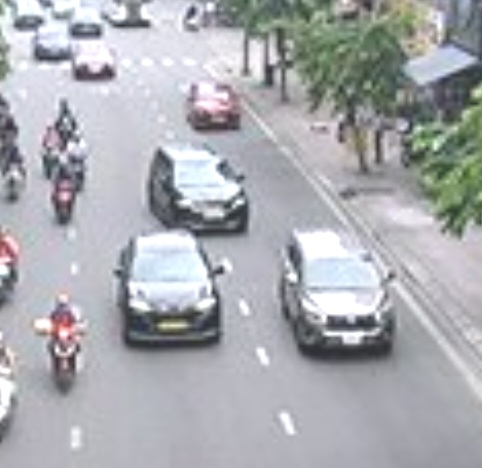car: (281, 225, 397, 356), (114, 230, 225, 350), (148, 139, 249, 235), (188, 77, 244, 132)
